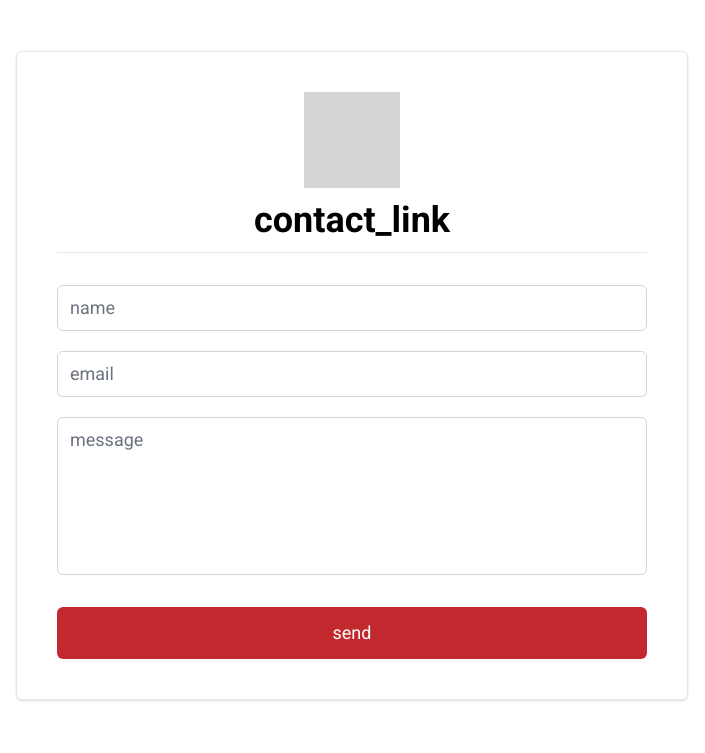
Test case: ContactPage › shows error when sendContact fails
In the field with placeholder "name": (352, 308) [57,284,647,330], type "Test User"
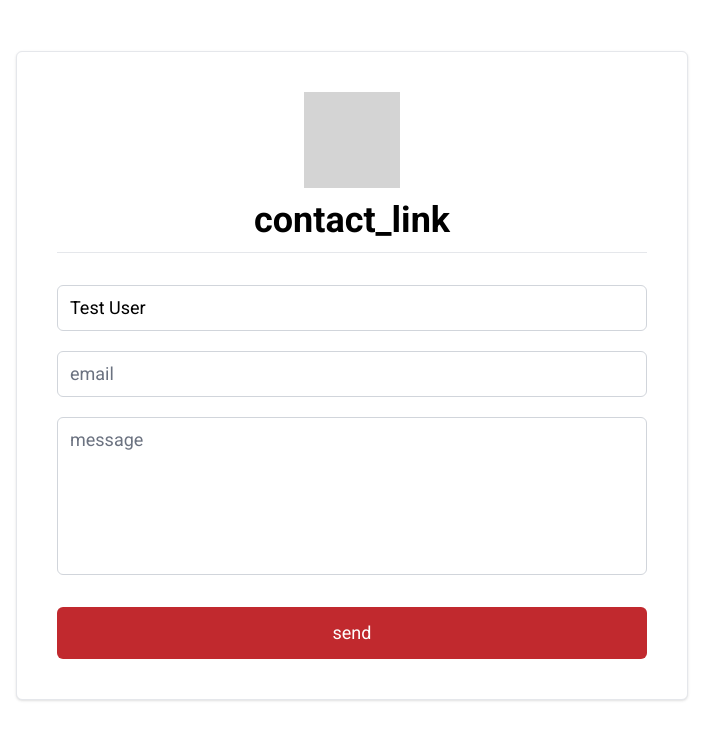
In the field with placeholder "email": (352, 374) [57,350,647,396], type "test@example.com"
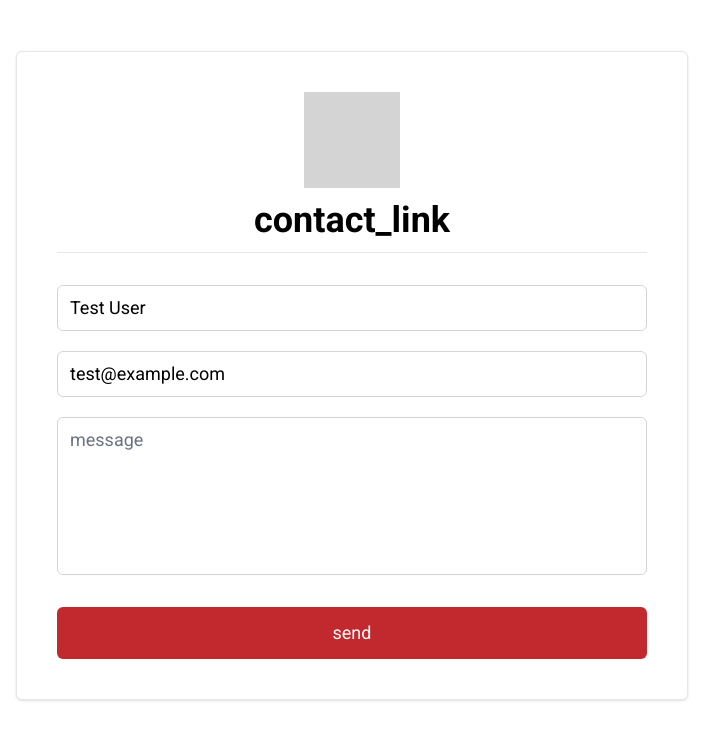
In the text box with placeholder "message": (352, 496) [57,416,647,574], type "Hello!"
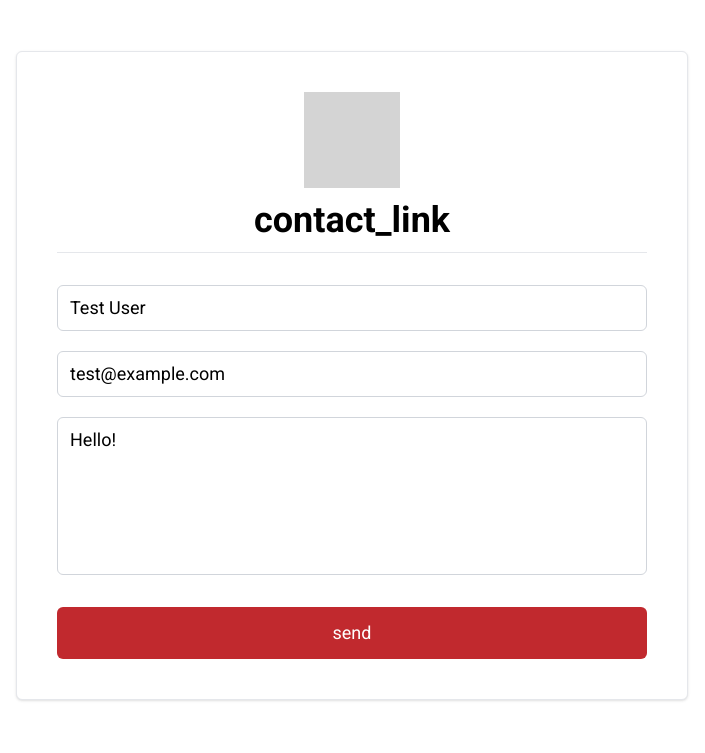
Click the button "send": (352, 632) [57,606,647,658]
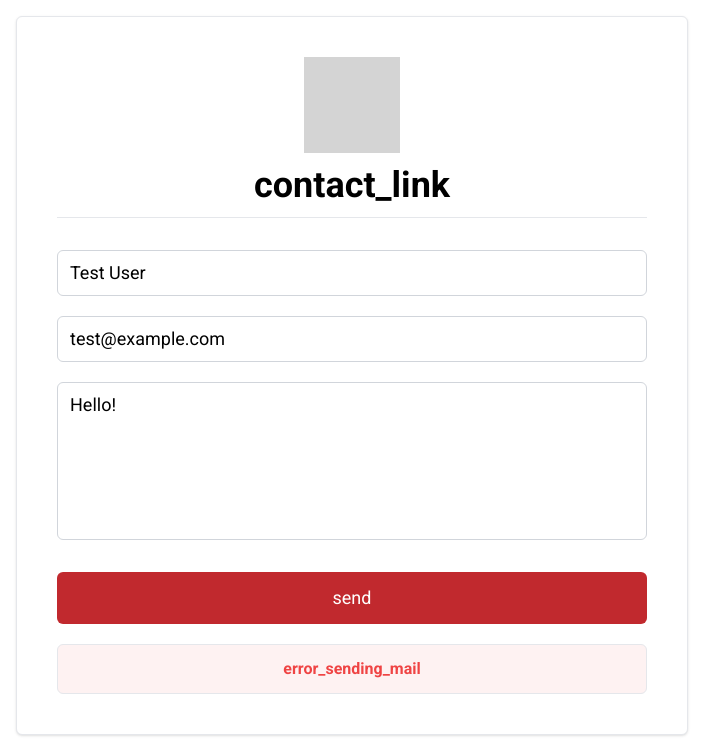
expect the text "error_sending_mail" is shown: met, box [57,644,647,694]
